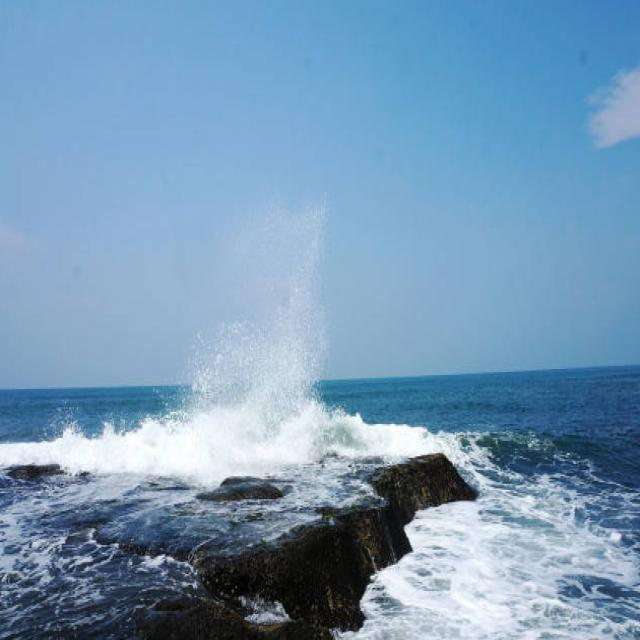reef: (124, 399, 502, 640)
